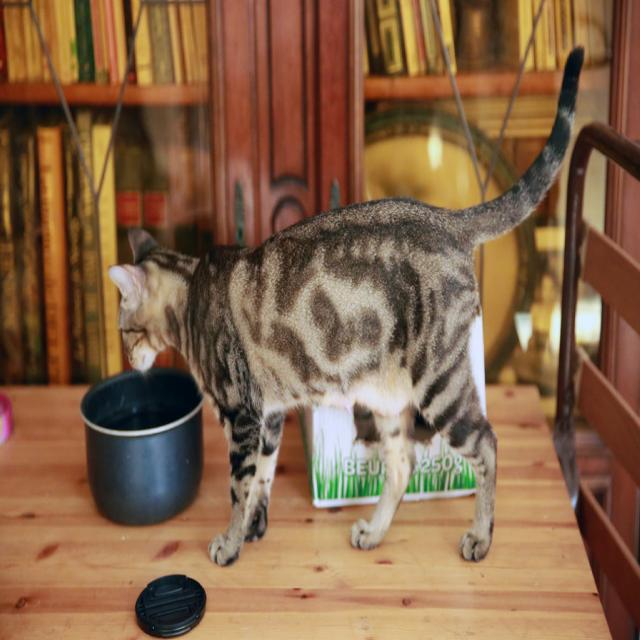Cat: (103, 42, 588, 569)
